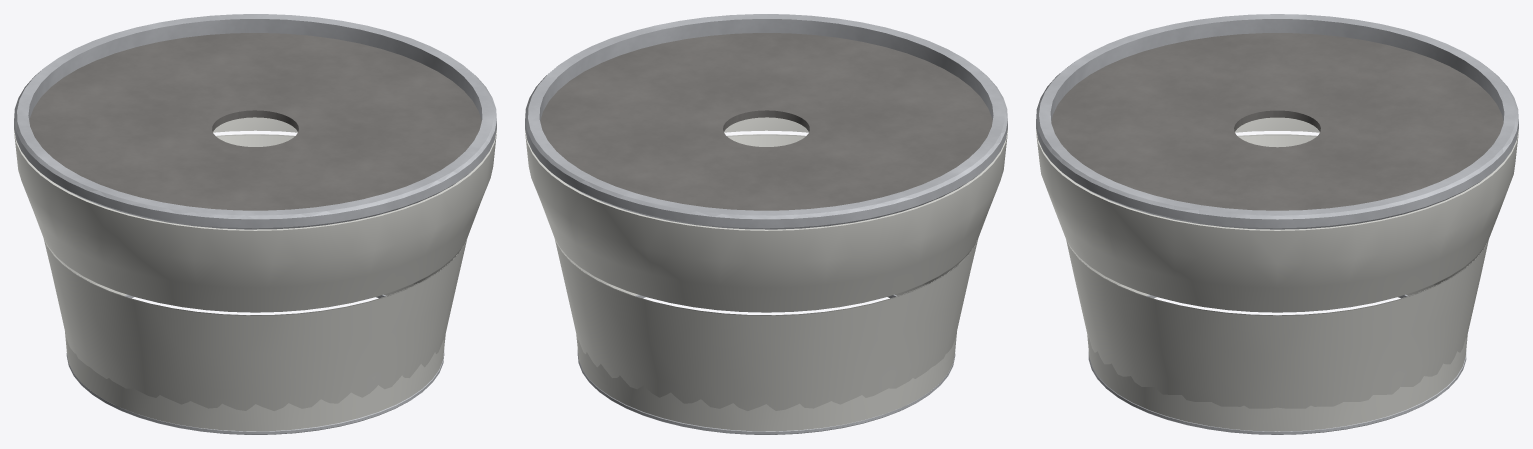
Rendered from ax_struct_11_boat_tail_xl.glb.
The picture shows the model from 3 angles, left to right: view 1: azimuth 30°, elevation 25°; view 2: azimuth 150°, elevation 25°; view 3: azimuth 270°, elevation 25°; orthographic projection.
Visible parts, largest first — view 1: skirt_shell, thrust_plate, top_ring, bottom_lip; view 2: skirt_shell, thrust_plate, top_ring, bottom_lip; view 3: skirt_shell, thrust_plate, top_ring, bottom_lip.
Boxes of the visible parts, x1,y1,x2,y2 form: skirt_shell: [14, 117, 496, 431]; thrust_plate: [29, 33, 481, 210]; top_ring: [14, 14, 496, 229]; bottom_lip: [66, 294, 444, 434]; skirt_shell: [525, 117, 1007, 431]; thrust_plate: [540, 33, 992, 210]; top_ring: [525, 14, 1007, 229]; bottom_lip: [577, 294, 955, 434]; skirt_shell: [1036, 117, 1518, 431]; thrust_plate: [1051, 33, 1503, 210]; top_ring: [1036, 14, 1518, 229]; bottom_lip: [1088, 294, 1466, 434].
Bounding box in the file's own units: 5 × 2.75 × 5.
Materials: 4 (3 with a texture image).
